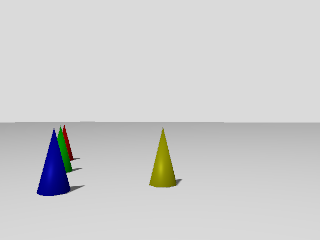blue: (35, 128, 72, 197)
green: (55, 127, 72, 171)
red: (64, 117, 73, 159)
yellow: (148, 125, 177, 189)
